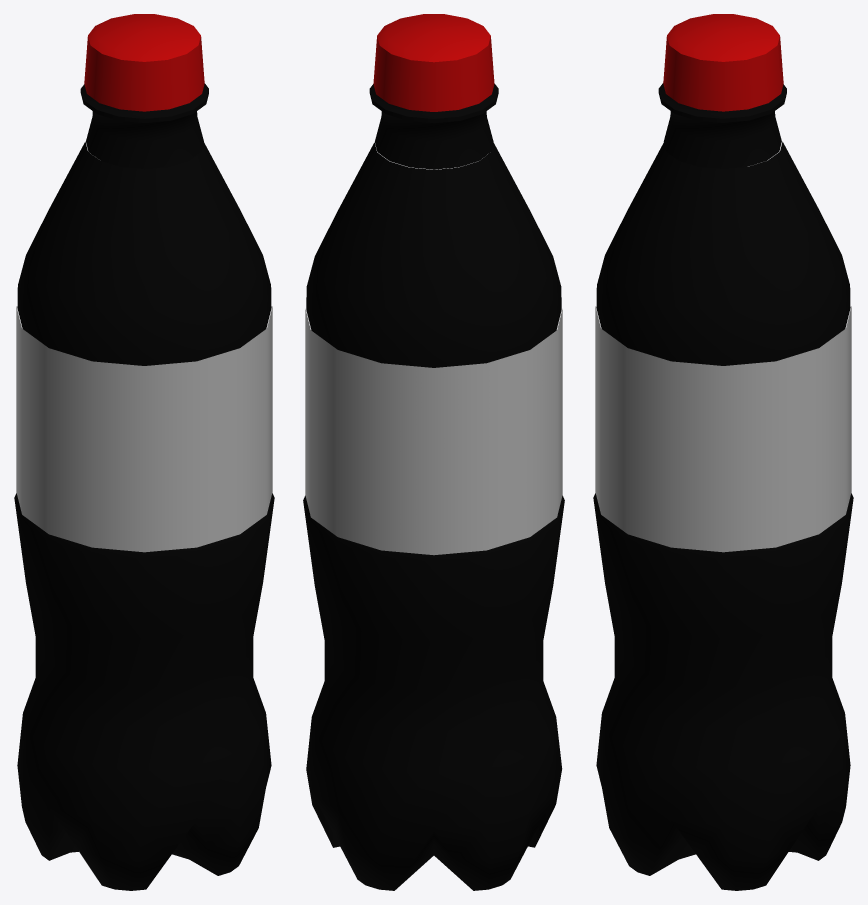
The picture shows the model from 3 angles, left to right: view 1: azimuth 30°, elevation 25°; view 2: azimuth 150°, elevation 25°; view 3: azimuth 270°, elevation 25°; orthographic projection.
Visible parts, largest first — view 1: botella_abajo, etiqueta, botella_arriba, tapon_low, cuello; view 2: botella_abajo, etiqueta, botella_arriba, tapon_low, cuello; view 3: botella_abajo, etiqueta, botella_arriba, tapon_low, cuello.
Boxes of the visible parts, <box> form: botella_abajo: <box>14,493,274,890</box>; etiqueta: <box>16,306,272,552</box>; botella_arriba: <box>17,141,271,365</box>; tapon_low: <box>84,14,204,111</box>; cuello: <box>80,83,208,169</box>; botella_abajo: <box>303,495,564,890</box>; etiqueta: <box>305,309,562,555</box>; botella_arriba: <box>306,142,561,367</box>; tapon_low: <box>373,14,494,111</box>; cuello: <box>369,84,498,169</box>; botella_abajo: <box>593,493,853,890</box>; etiqueta: <box>595,306,851,552</box>; botella_arriba: <box>596,141,850,365</box>; tapon_low: <box>663,14,783,111</box>; cuello: <box>658,83,786,168</box>.
Bounding box in the file's own units: 0.0719 × 0.2506 × 0.0723.
